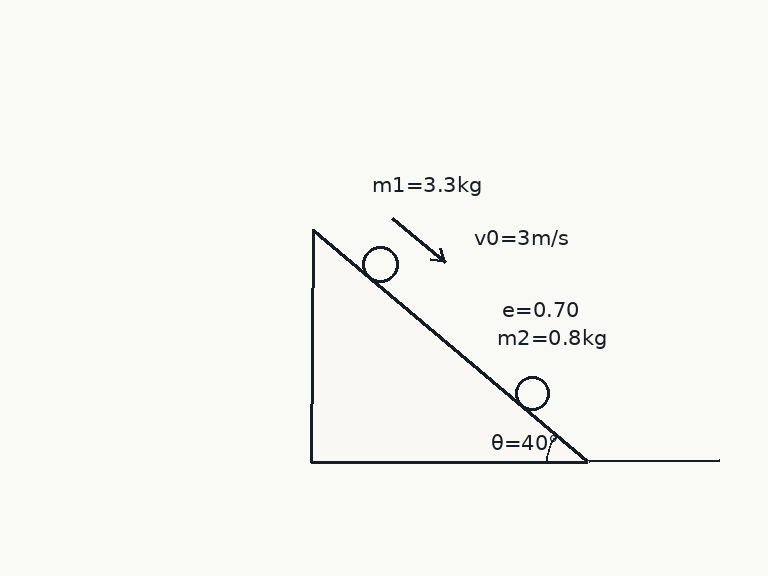ball: (360, 244, 400, 284), (513, 374, 551, 412)
ramp: (310, 228, 589, 463)
